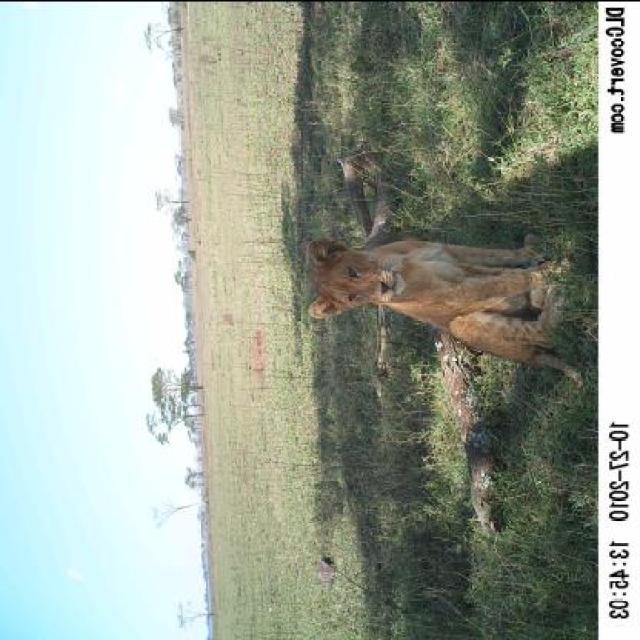Lion: (288, 208, 589, 389)
